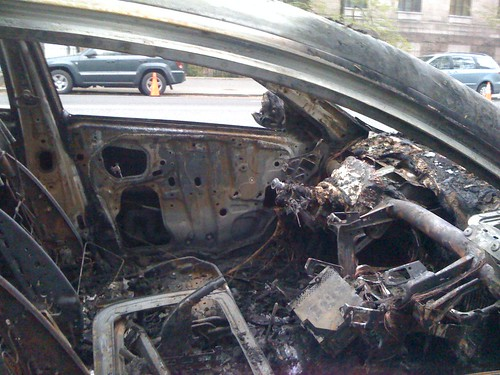car: (1, 2, 494, 375), (45, 40, 188, 96), (420, 55, 499, 97)
traffic cone: (146, 72, 165, 99)
